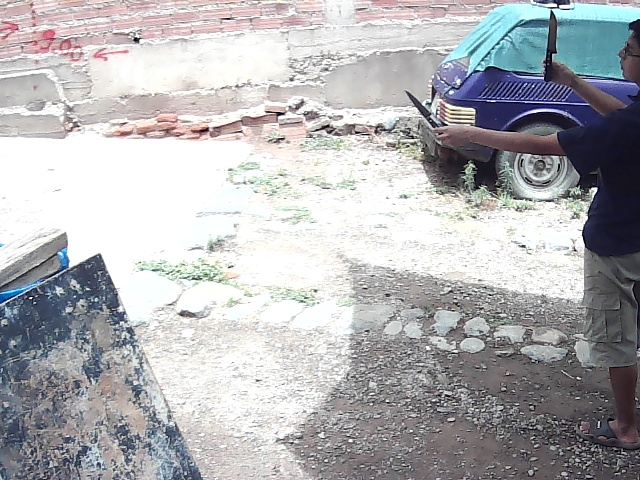cuchillo: (540, 4, 565, 85)
